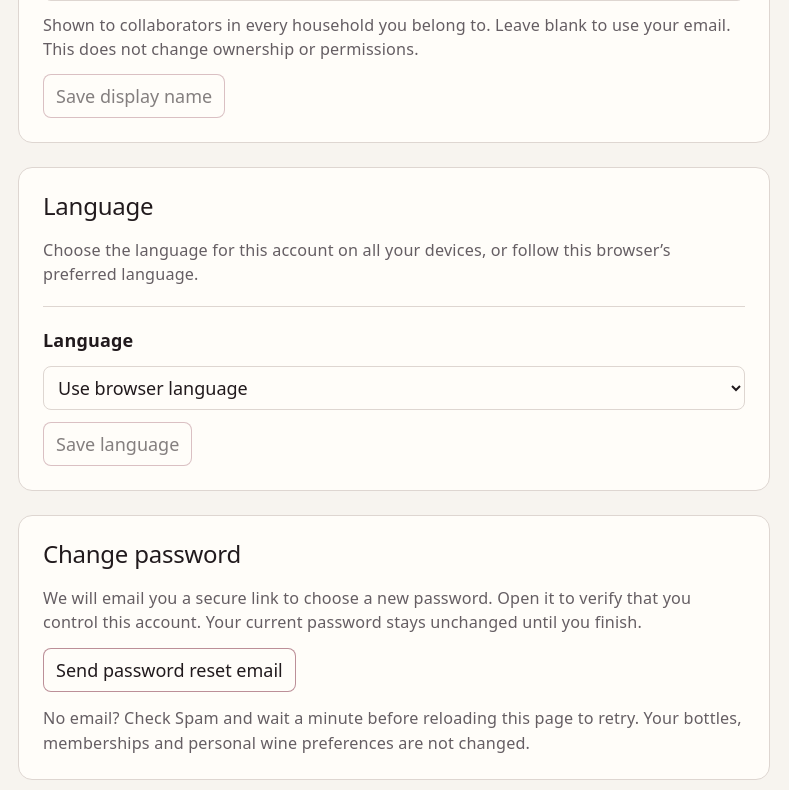
Test: account settings › applies a saved French preference immediately to the Account screen
(page scrolled)
Select "Français" in the dropdown with id "account-language": (394, 388) [43,366,745,410]
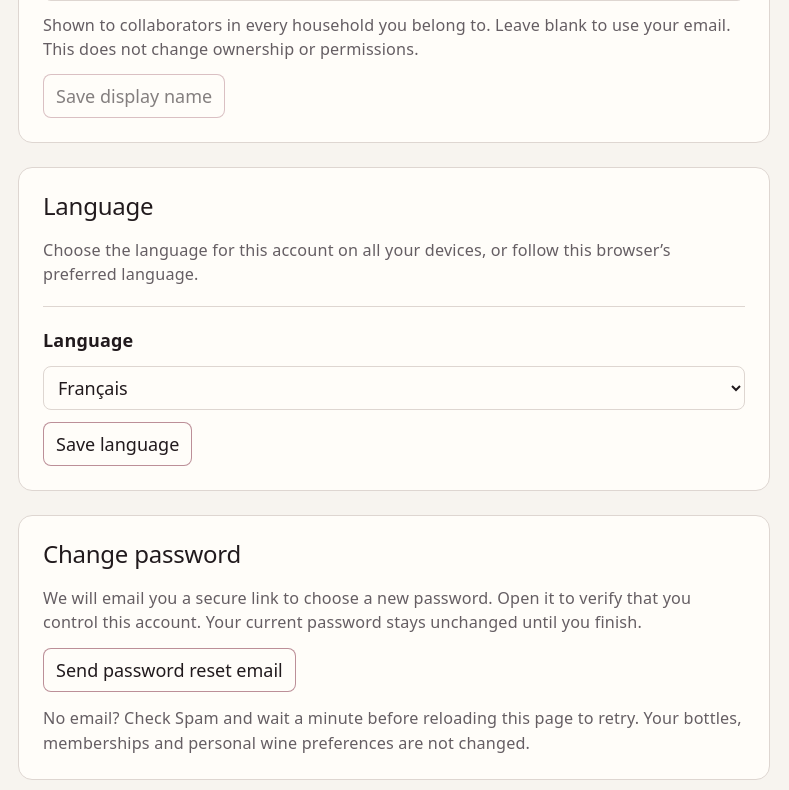
Click the button "Save language": (118, 444) [43,422,192,466]
(page scrolled)
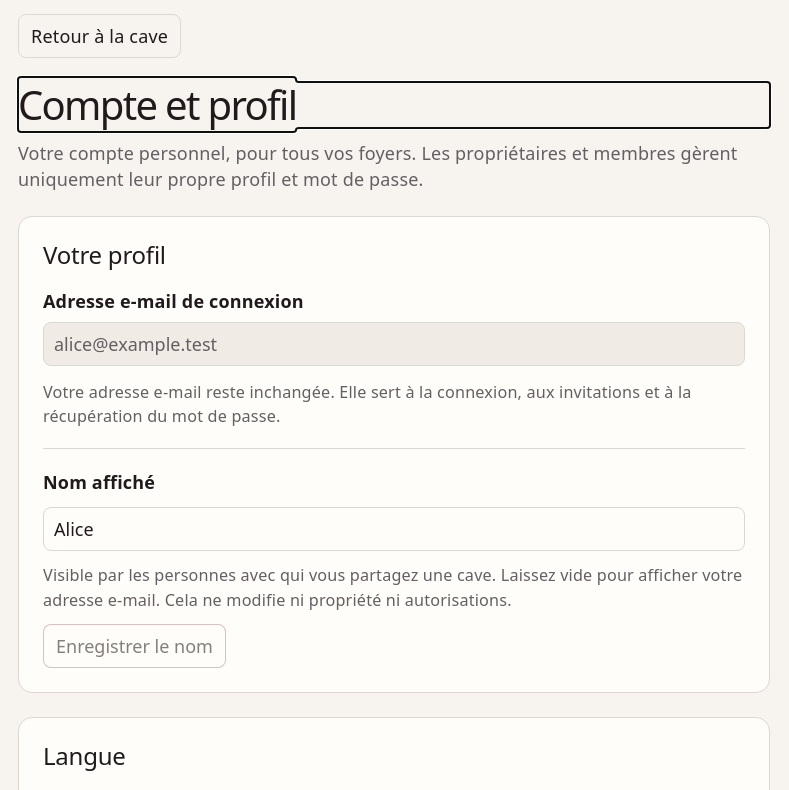
Now the heading "Compte et profil" is shown, box [18,77,296,132]
Now the heading "Votre profil" is shown, box [43,238,166,271]
